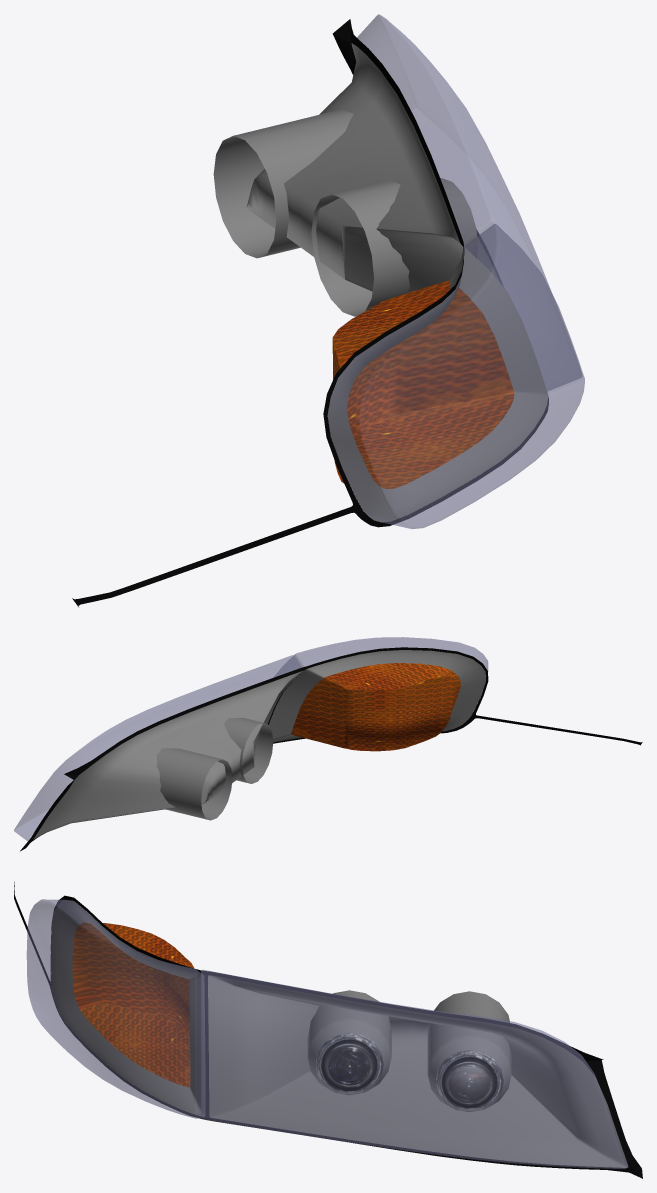
3 renders of one model, top to bottom at view 1: azimuth 30°, elevation 25°; view 2: azimuth 150°, elevation 25°; view 3: azimuth 270°, elevation 25°, orthographic. The views are drawn at different scales.
Visible parts, largest first — view 1: H124_061B_R_H124_061B_R_4_DaS, H124_061B_R_H124_061B_R_7_DTaSI, H124_061B_R_H124_061B_R_3_N, H124_061B_R_H124_061B_R_6_DTaSI, H124_061B_R_H124_061B_R_7_D; view 2: H124_061B_R_H124_061B_R_4_DaS, H124_061B_R_H124_061B_R_3_N, H124_061B_R_H124_061B_R_6_DTaSI, H124_061B_R_H124_061B_R_7_D, H124_061B_R_H124_061B_R_7_DTaSI; view 3: H124_061B_R_H124_061B_R_4_DaS, H124_061B_R_H124_061B_R_6_DTaSI, H124_061B_R_H124_061B_R_7_DTaSI, H124_061B_R_H124_061B_R_3_N, H124_061B_R_H124_061B_R_7_D, H124_061B_R_H124_061B_R_2_N, H124_061B_R_1_N_H124_061B_R.
Boxes of the visible parts, <box> form: H124_061B_R_H124_061B_R_4_DaS: <box>213,43,548,522</box>; H124_061B_R_H124_061B_R_7_DTaSI: <box>328,224,584,529</box>; H124_061B_R_H124_061B_R_3_N: <box>332,280,514,488</box>; H124_061B_R_H124_061B_R_6_DTaSI: <box>357,14,581,390</box>; H124_061B_R_H124_061B_R_7_D: <box>72,19,548,607</box>; H124_061B_R_H124_061B_R_4_DaS: <box>33,650,485,839</box>; H124_061B_R_H124_061B_R_3_N: <box>291,663,460,751</box>; H124_061B_R_H124_061B_R_6_DTaSI: <box>14,655,301,840</box>; H124_061B_R_H124_061B_R_7_D: <box>20,647,642,851</box>; H124_061B_R_H124_061B_R_7_DTaSI: <box>274,637,488,676</box>; H124_061B_R_H124_061B_R_4_DaS: <box>51,900,628,1167</box>; H124_061B_R_H124_061B_R_6_DTaSI: <box>201,969,627,1169</box>; H124_061B_R_H124_061B_R_7_DTaSI: <box>26,899,202,1118</box>; H124_061B_R_H124_061B_R_3_N: <box>72,922,194,1087</box>; H124_061B_R_H124_061B_R_7_D: <box>14,881,642,1178</box>; H124_061B_R_H124_061B_R_2_N: <box>435,1050,503,1112</box>; H124_061B_R_1_N_H124_061B_R: <box>315,1033,383,1095</box>.
Size of the model in its own units: 62.23 by 15.4 by 63.11.
